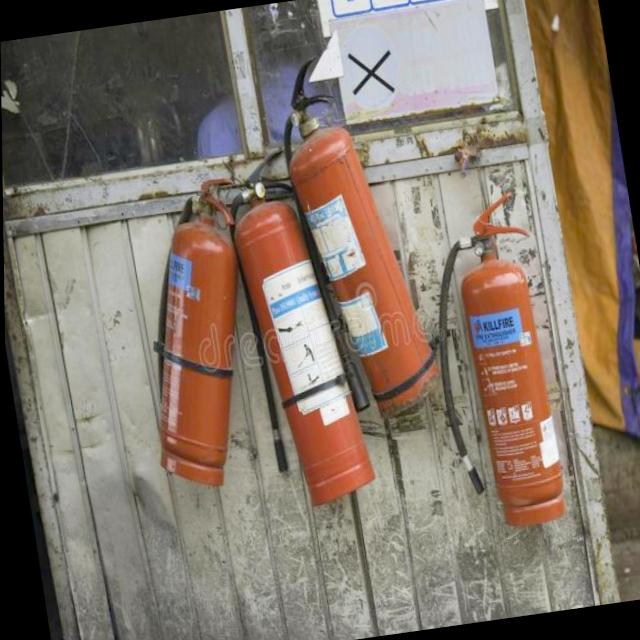FireExtinguisher: (264, 36, 449, 432), (216, 134, 380, 521), (410, 183, 578, 538), (112, 168, 278, 498)
